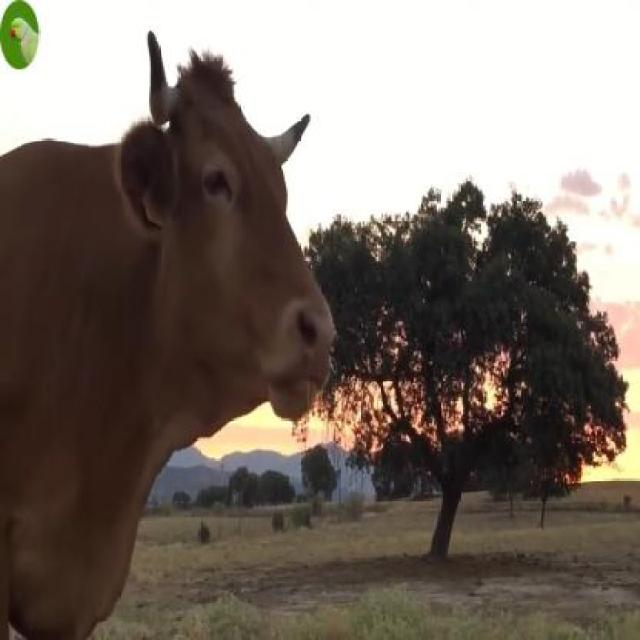Cow: (1, 29, 334, 638)
